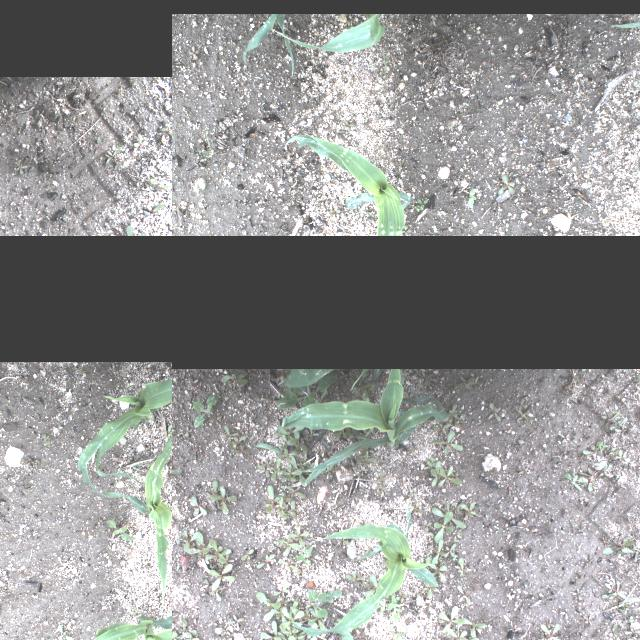crop: (282, 370, 446, 486), (289, 525, 436, 635), (287, 133, 413, 236), (100, 427, 172, 607), (77, 371, 172, 492), (240, 14, 386, 78), (78, 595, 172, 640), (286, 368, 366, 392)
weed: (607, 14, 640, 88), (276, 374, 338, 408), (190, 392, 220, 426), (306, 590, 340, 620), (429, 508, 467, 530), (431, 430, 463, 456), (208, 486, 236, 514), (210, 562, 236, 590), (202, 540, 232, 564), (194, 130, 216, 162), (432, 512, 454, 544), (437, 608, 465, 632), (288, 455, 308, 487), (457, 619, 485, 640), (106, 520, 132, 542), (286, 431, 308, 453), (280, 610, 304, 630), (537, 621, 562, 640), (103, 145, 121, 171), (256, 592, 282, 610), (220, 369, 248, 385), (561, 474, 587, 491), (604, 580, 626, 600), (188, 531, 208, 553), (498, 172, 516, 196), (202, 578, 220, 602), (582, 439, 600, 463), (262, 604, 286, 622), (362, 574, 380, 598), (604, 539, 634, 553), (438, 467, 459, 487), (259, 620, 280, 640), (432, 540, 448, 566), (288, 526, 310, 544), (273, 464, 301, 478), (459, 502, 483, 518), (226, 433, 246, 452), (264, 486, 278, 512), (426, 564, 446, 582), (278, 538, 298, 556), (308, 610, 324, 632), (391, 594, 402, 624), (602, 411, 620, 429), (582, 470, 598, 490), (296, 546, 312, 566), (118, 225, 145, 236), (282, 622, 298, 640), (276, 426, 294, 442), (456, 585, 470, 605), (608, 452, 628, 466), (377, 600, 397, 614), (486, 402, 500, 421), (148, 178, 170, 190), (192, 495, 204, 517), (338, 629, 362, 640), (354, 454, 376, 466), (431, 461, 441, 487), (222, 426, 238, 442), (230, 445, 248, 459), (452, 378, 476, 388), (456, 558, 468, 578), (424, 580, 436, 600), (345, 573, 365, 585), (13, 160, 27, 176), (56, 624, 72, 638), (257, 554, 273, 568), (228, 615, 244, 629), (388, 626, 404, 640), (270, 610, 286, 624), (276, 558, 298, 568), (270, 458, 280, 480), (448, 630, 469, 640), (240, 548, 253, 564), (144, 202, 164, 212), (276, 450, 296, 460), (159, 121, 172, 136), (340, 119, 356, 131), (518, 396, 528, 414), (276, 496, 284, 518), (415, 198, 427, 212), (454, 412, 466, 426), (614, 423, 626, 437), (256, 465, 270, 477), (319, 464, 333, 476), (468, 188, 476, 208), (432, 424, 452, 432), (594, 468, 610, 478), (287, 487, 303, 497), (333, 428, 349, 438), (518, 411, 532, 422), (451, 502, 462, 516), (172, 454, 178, 478), (182, 529, 188, 553), (40, 432, 50, 446), (269, 544, 283, 554), (444, 543, 454, 557), (290, 501, 296, 522), (424, 458, 436, 468), (298, 456, 310, 466), (179, 634, 199, 640), (179, 620, 187, 634), (94, 136, 100, 154), (272, 590, 290, 596), (187, 374, 197, 384), (356, 466, 366, 476), (451, 531, 461, 541), (220, 626, 230, 636), (192, 182, 200, 194), (328, 208, 340, 216), (142, 464, 158, 470), (294, 568, 306, 576), (272, 636, 295, 640), (166, 424, 172, 438), (137, 134, 145, 144), (461, 636, 481, 640), (626, 616, 634, 626), (503, 222, 509, 232), (130, 606, 136, 616), (636, 626, 640, 639), (131, 466, 139, 472), (208, 620, 216, 626), (459, 101, 468, 105), (172, 612, 175, 622), (172, 484, 179, 488), (580, 369, 586, 373), (453, 554, 457, 560), (364, 118, 368, 122), (240, 484, 244, 488), (76, 158, 78, 164)
